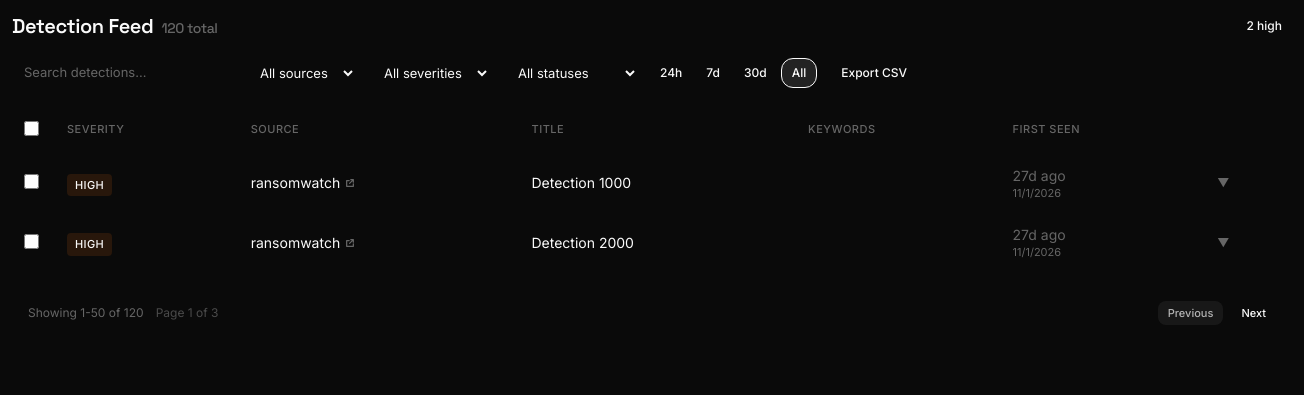
Test: DetectionFeed paging › requests only offset=0 after a search change on page 2
The image size is (1304, 395).
Click the button "Next" at (1254, 313), box [1231, 301, 1276, 325]
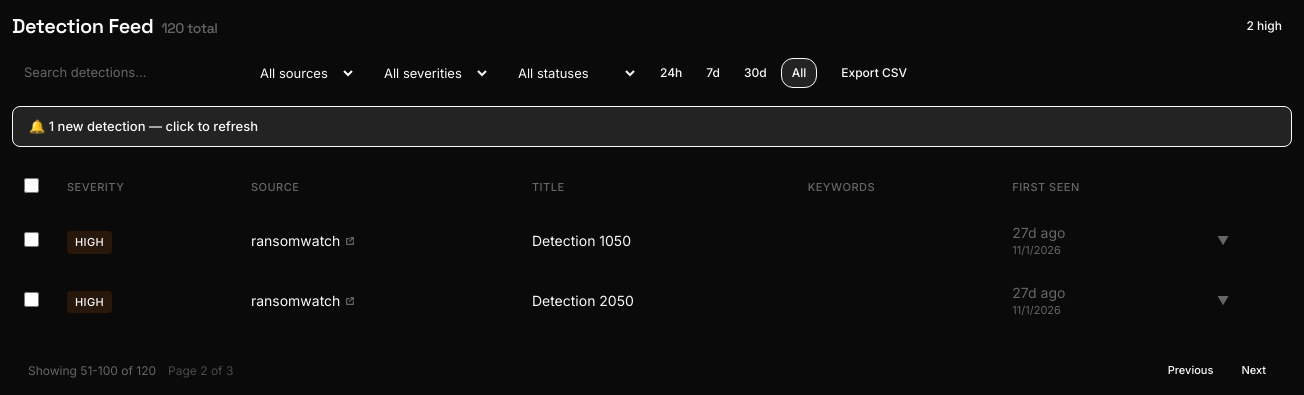
Type "lockbit" into the field with placeholder "Search detections…" at (122, 73), box [12, 56, 232, 90]
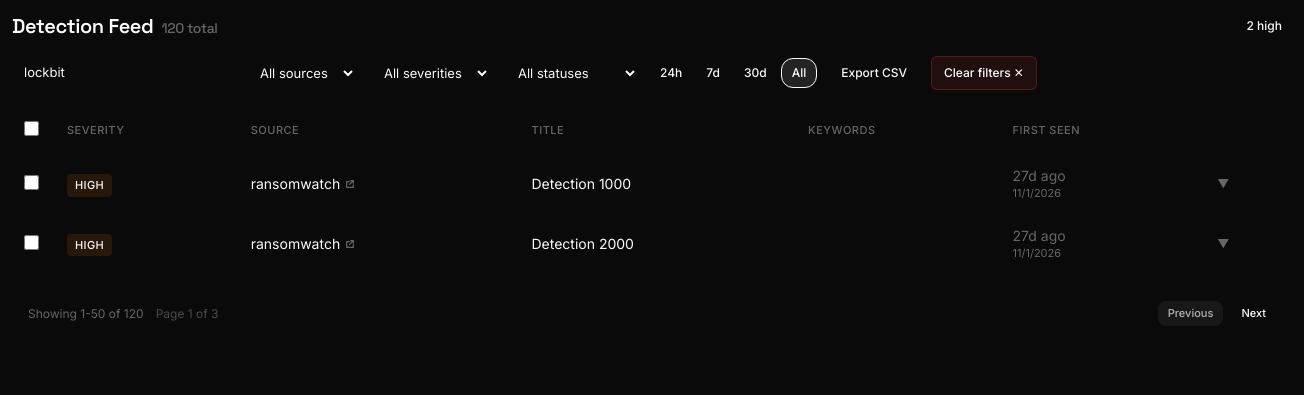
Check: the text "Page 1 of 3" is shown, box [156, 306, 218, 321]
